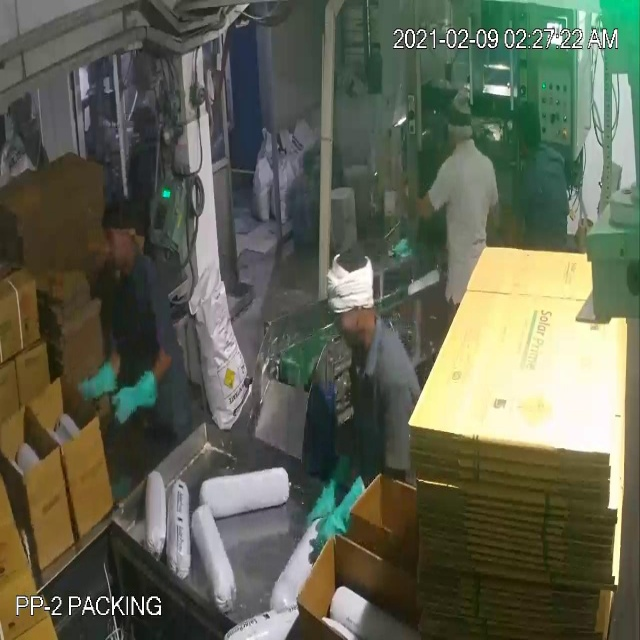Guantes: (313, 473, 368, 563), (304, 449, 350, 527), (111, 367, 160, 431), (75, 343, 119, 410)
